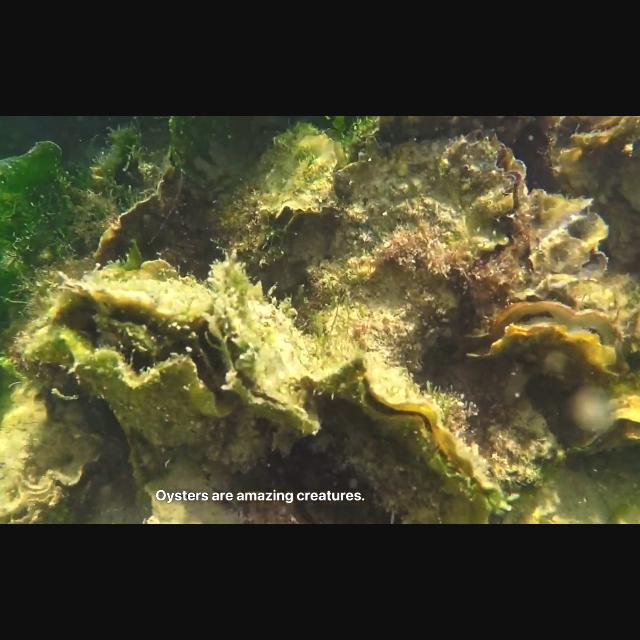Oyster-Closed: (90, 156, 208, 272)
Oyster-Open: (324, 127, 530, 375), (27, 272, 245, 452), (299, 356, 501, 524), (203, 258, 319, 440), (463, 300, 625, 390), (550, 116, 640, 268), (0, 407, 106, 525), (514, 188, 610, 302), (208, 177, 286, 265), (255, 152, 338, 232), (562, 398, 640, 462), (117, 418, 161, 514)
